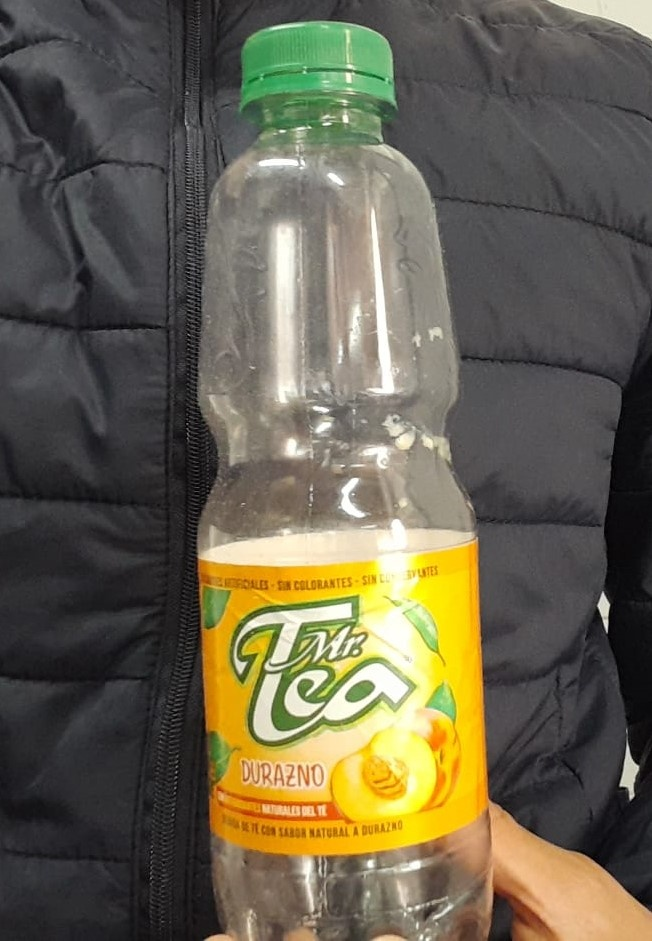Plastico: (196, 21, 488, 941)
